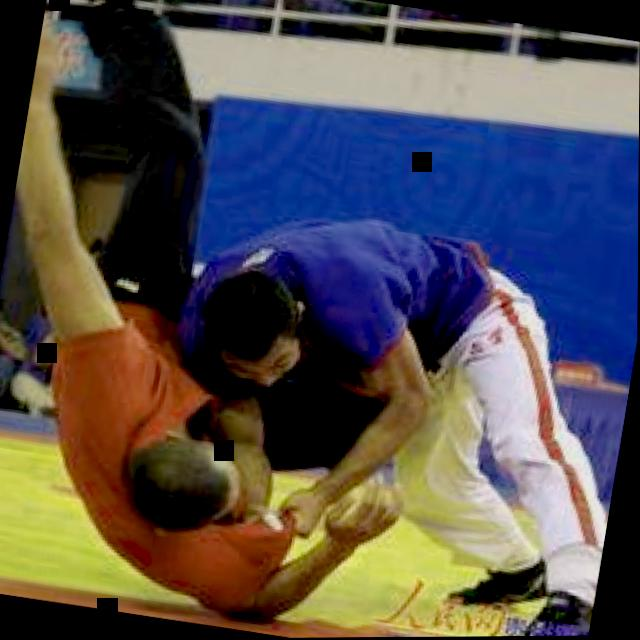Fall-Detected: (0, 0, 321, 597)
